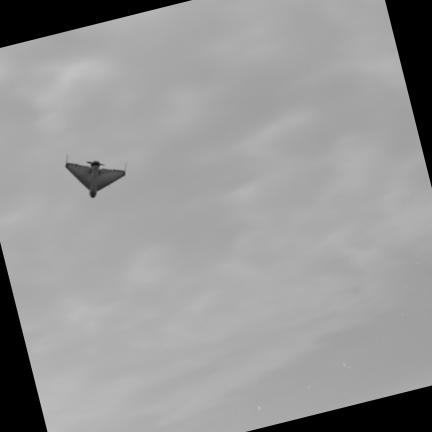Shahed: (62, 148, 126, 197)
